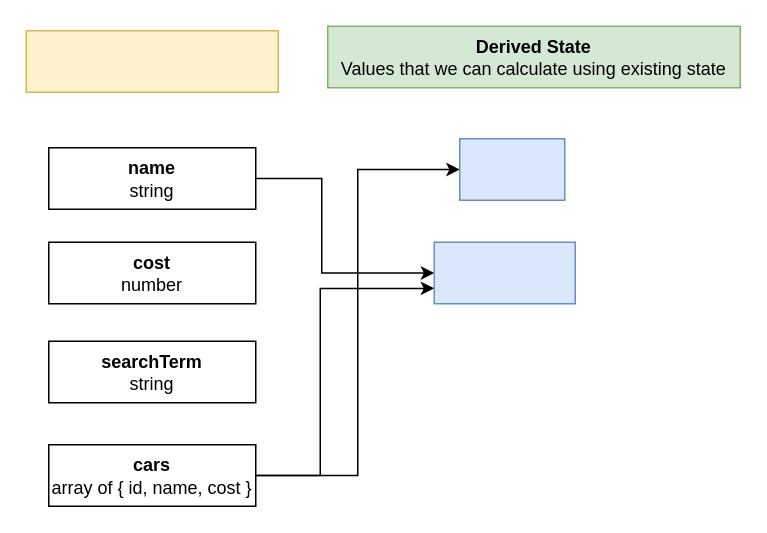
Image size: 767x533. Some labels were removed from this diagram. Here are the shapes that lost their labels. From the top down, the centre of each, then its label:
At point (151, 60): "Thinking about states what changes on the screen".
At point (511, 168): "totalCost number".
At point (504, 272): "matchedCars ???".
